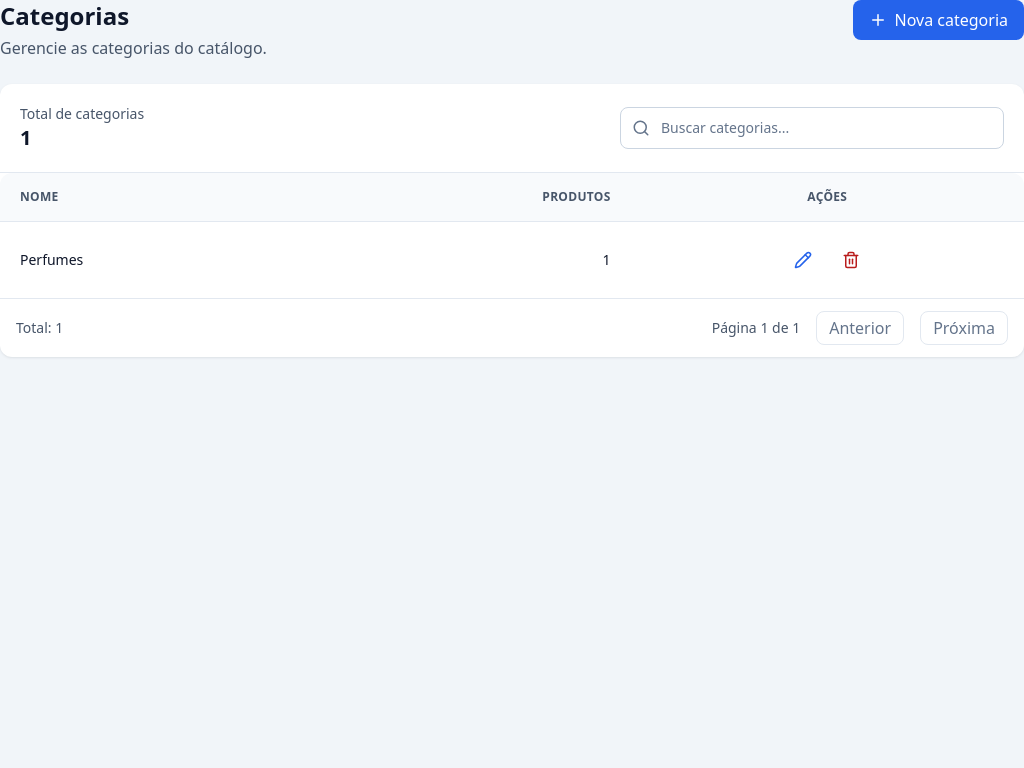
Test: Margem desejada nos formulários › edição pré-preenche a margem salva (targetMarginPercent da API) › Categoria: abre o modal de edição com a margem
Step 1. Click the button named "Editar" → (803, 260), box [781,238,825,282]
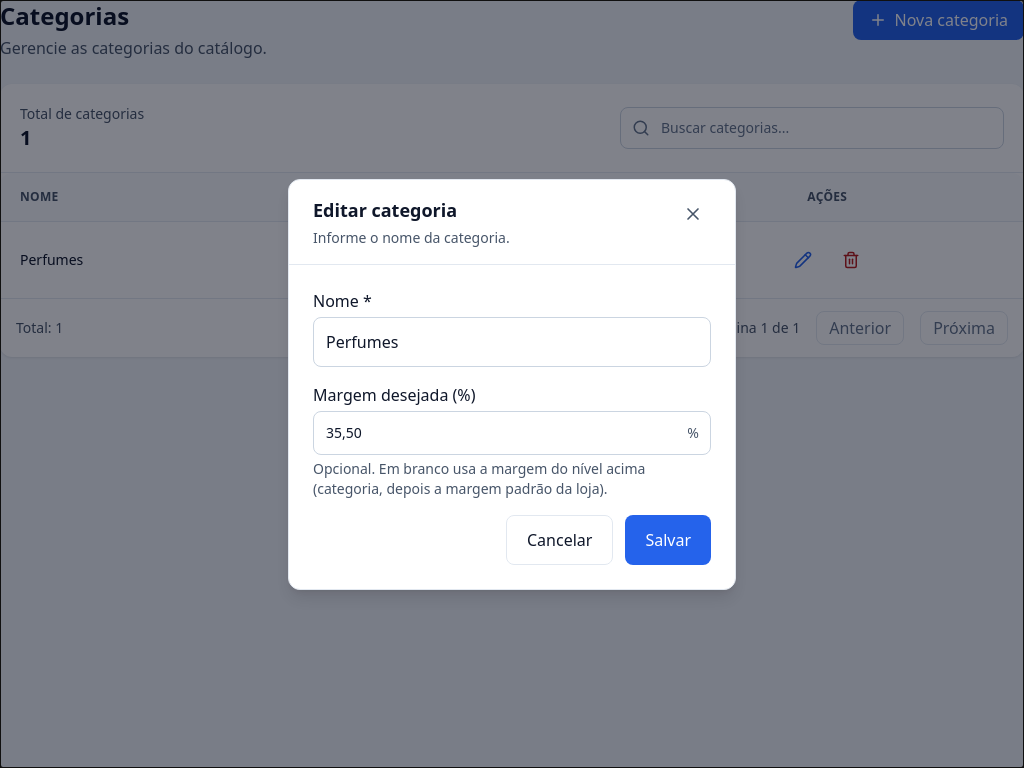
Expected: the field labelled "Margem desejada (%)" holds "35,50", [313,410,711,454]
